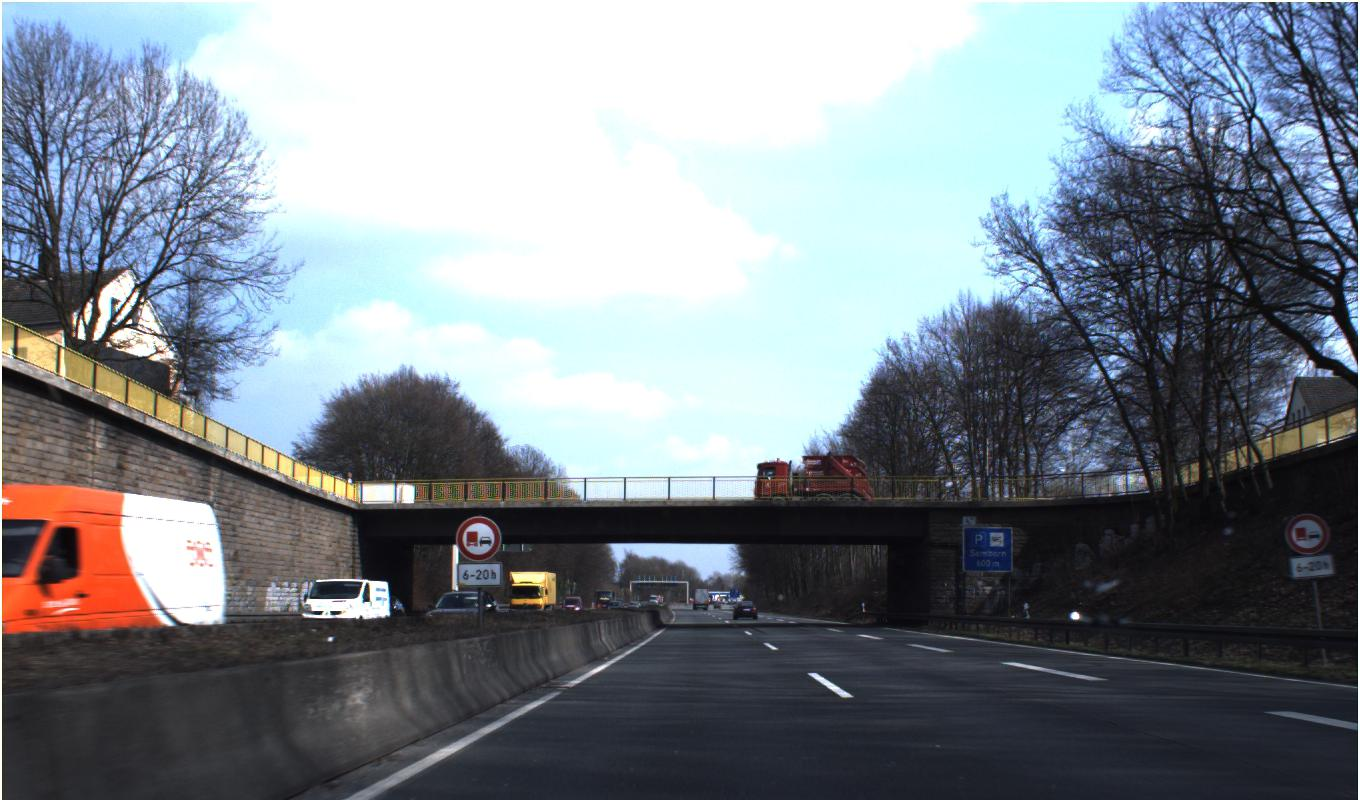prohibitory: (455, 515, 502, 562), (1285, 512, 1330, 555)
